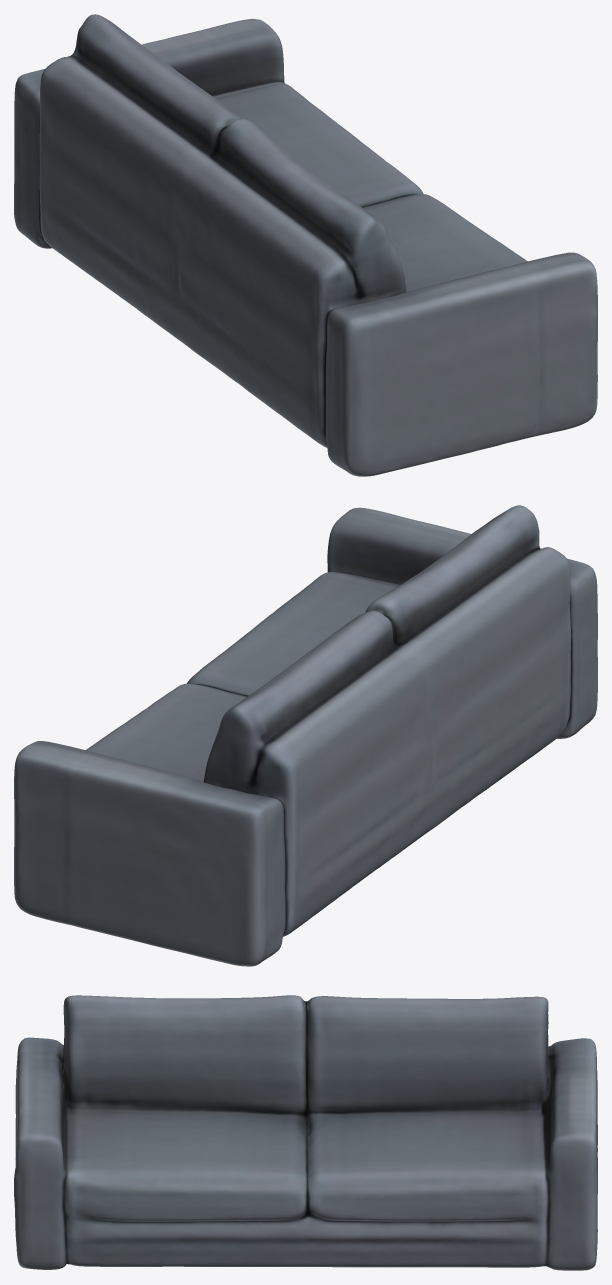
The model's file is gray_couch.glb.
3 views of the same model, one above another, from view 1: azimuth 30°, elevation 25°; view 2: azimuth 150°, elevation 25°; view 3: azimuth 270°, elevation 25° (orthographic). The views are drawn at different scales.
Visible parts, largest first — view 1: high_poly_0; view 2: high_poly_0; view 3: high_poly_0.
Boxes of the visible parts, box(x1,y1,x2,y2) form: high_poly_0: box(14, 14, 597, 476); high_poly_0: box(14, 505, 597, 966); high_poly_0: box(14, 995, 597, 1270).
Size of the model in its own units: 0.4334 by 0.3726 by 1.
Materials: 1 (1 with a texture image).
